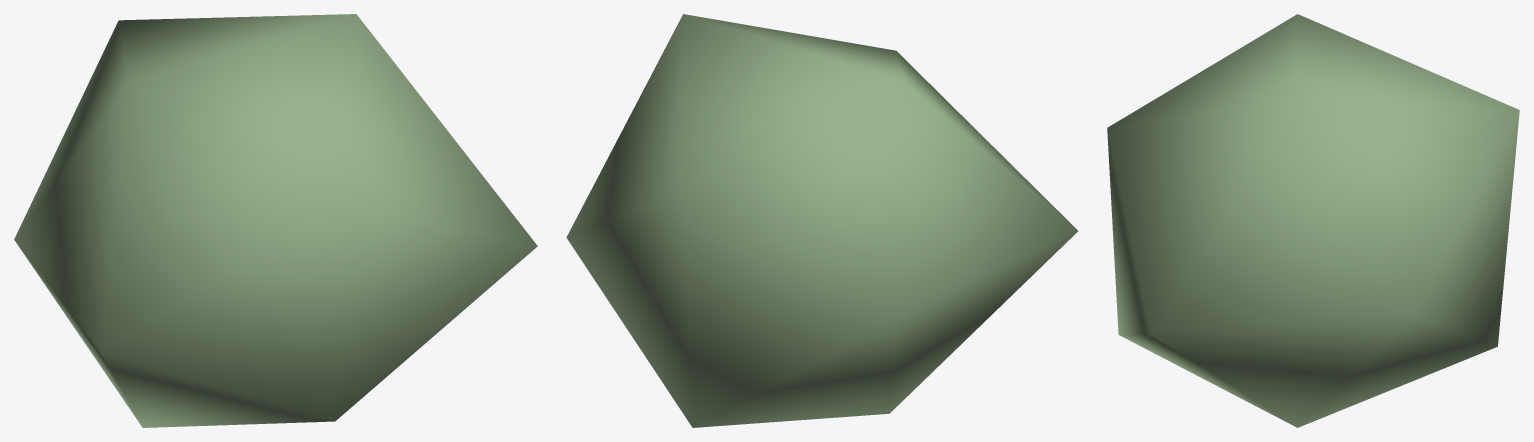
Rendered from cover_core.glb.
The picture shows the model from 3 angles, left to right: view 1: azimuth 30°, elevation 25°; view 2: azimuth 150°, elevation 25°; view 3: azimuth 270°, elevation 25°; orthographic projection. The views are drawn at different scales.
Visible parts, largest first — view 1: cover_core; view 2: cover_core; view 3: cover_core.
Boxes of the visible parts, x1,y1,x2,y2 form: cover_core: (14, 14, 537, 427); cover_core: (566, 14, 1077, 427); cover_core: (1107, 14, 1519, 427).
Size of the model in its own units: 1.44 by 1.15 by 1.28.
